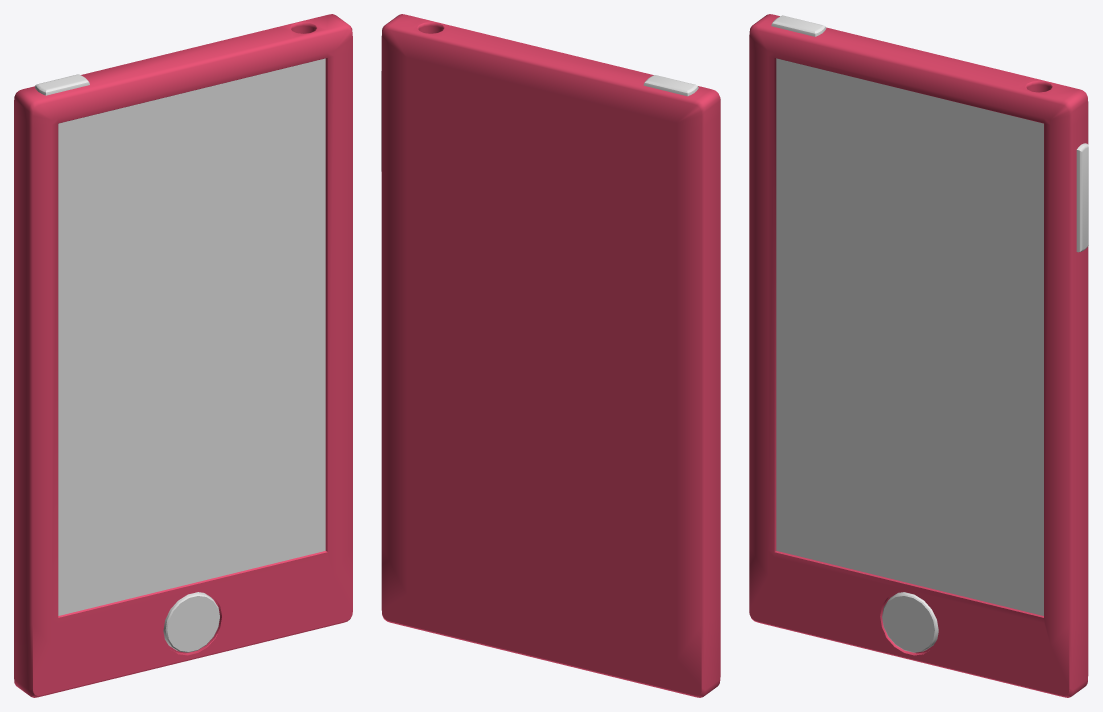
The model's file is телефон.fbx.
3 views of the same model, side by side, from view 1: azimuth 30°, elevation 25°; view 2: azimuth 150°, elevation 25°; view 3: azimuth 330°, elevation 25° (orthographic).
Parts seen in each view (by area): view 1: Plane, PhoneBody, HomeButton, PowerButton; view 2: PhoneBody, PowerButton; view 3: Plane, PhoneBody, HomeButton, VolumeButton, PowerButton.
Boxes of the visible parts, <box> form: Plane: <box>58,58,325,615</box>; PhoneBody: <box>14,14,352,697</box>; HomeButton: <box>163,592,219,652</box>; PowerButton: <box>35,74,89,95</box>; PhoneBody: <box>381,14,720,697</box>; PowerButton: <box>643,75,698,96</box>; Plane: <box>776,58,1043,615</box>; PhoneBody: <box>749,14,1088,697</box>; HomeButton: <box>882,592,938,652</box>; VolumeButton: <box>1076,143,1088,252</box>; PowerButton: <box>771,15,826,36</box>.
Bounding box in the file's own units: 174 × 305 × 17.88.
